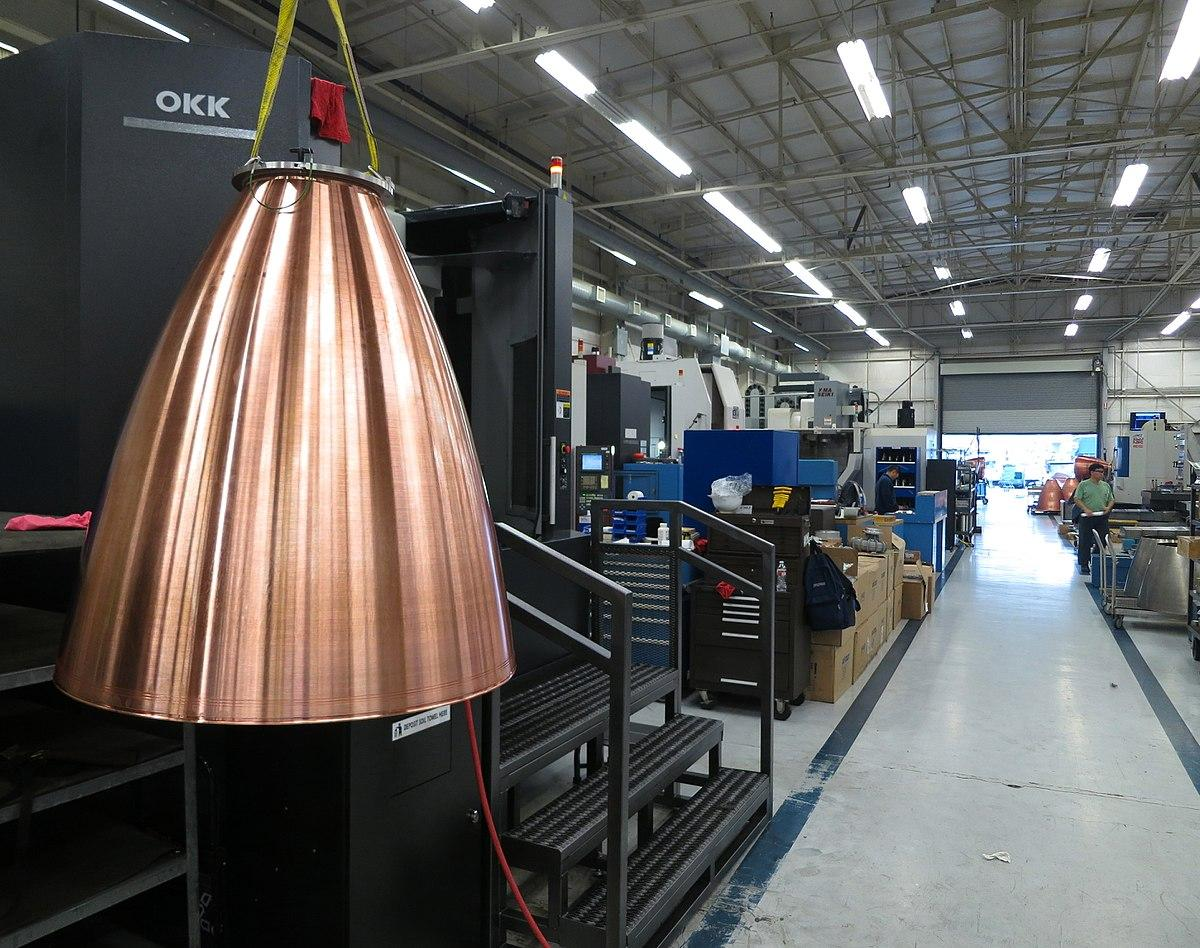thruster: (47, 189, 524, 729), (1035, 481, 1063, 515)
